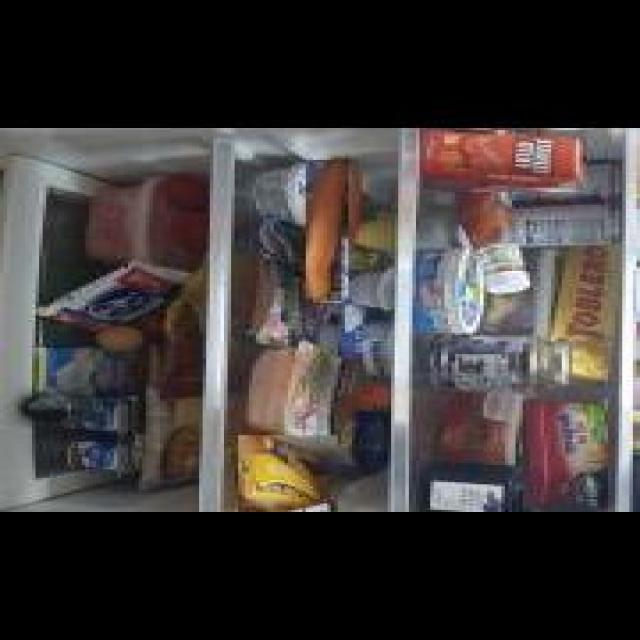butter: (519, 399, 605, 508)
carrot: (301, 160, 343, 303)
cheese: (233, 435, 332, 512), (412, 247, 483, 335)
egg: (89, 325, 135, 353)
marmelade: (418, 463, 553, 512)
pak_choi: (0, 172, 64, 473)
tomato: (160, 172, 206, 212)
tomato_sauce: (413, 130, 583, 192)
yogurt: (58, 437, 140, 478)
